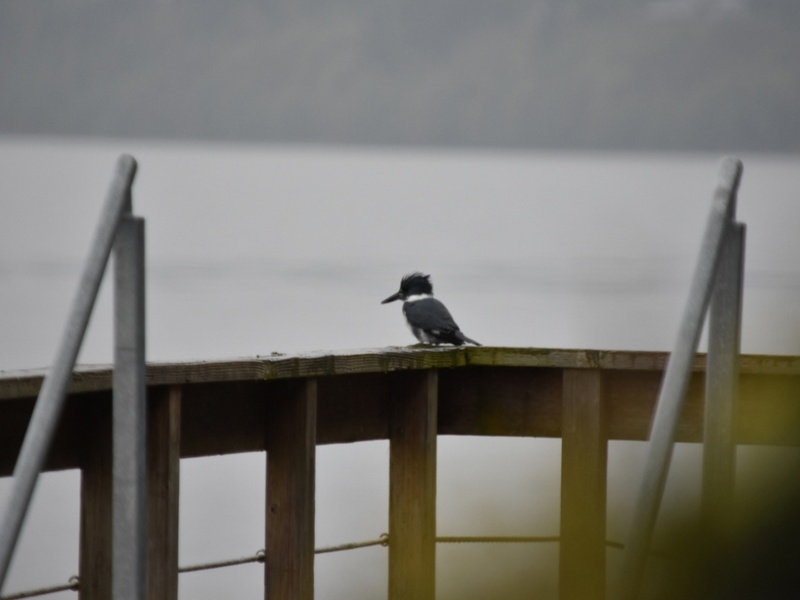kingfisher: (380, 270, 481, 349)
